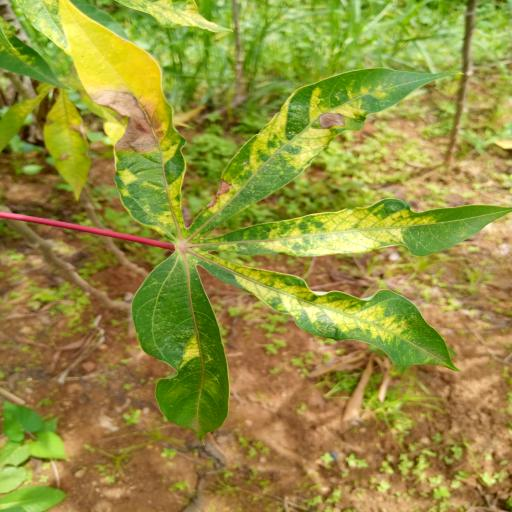Cassava_Mosaic: (48, 0, 512, 435)
